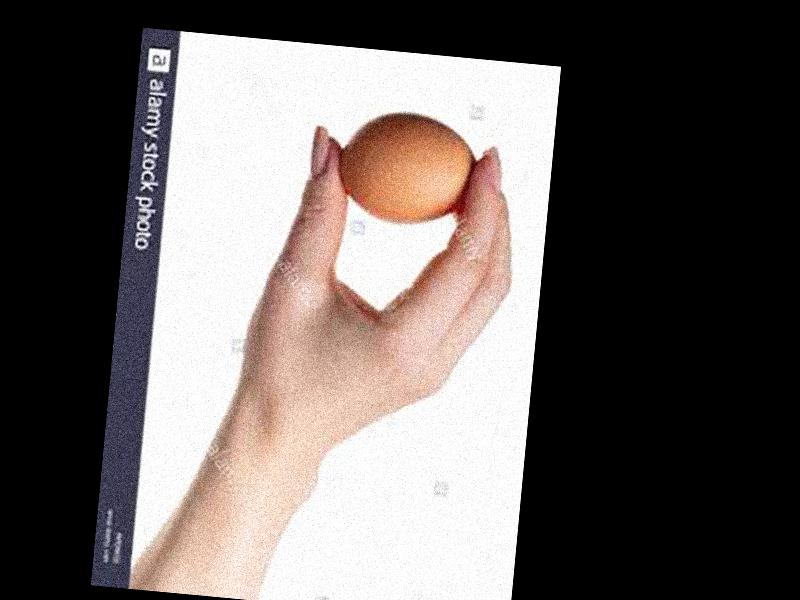Eggs: (337, 108, 478, 232)
